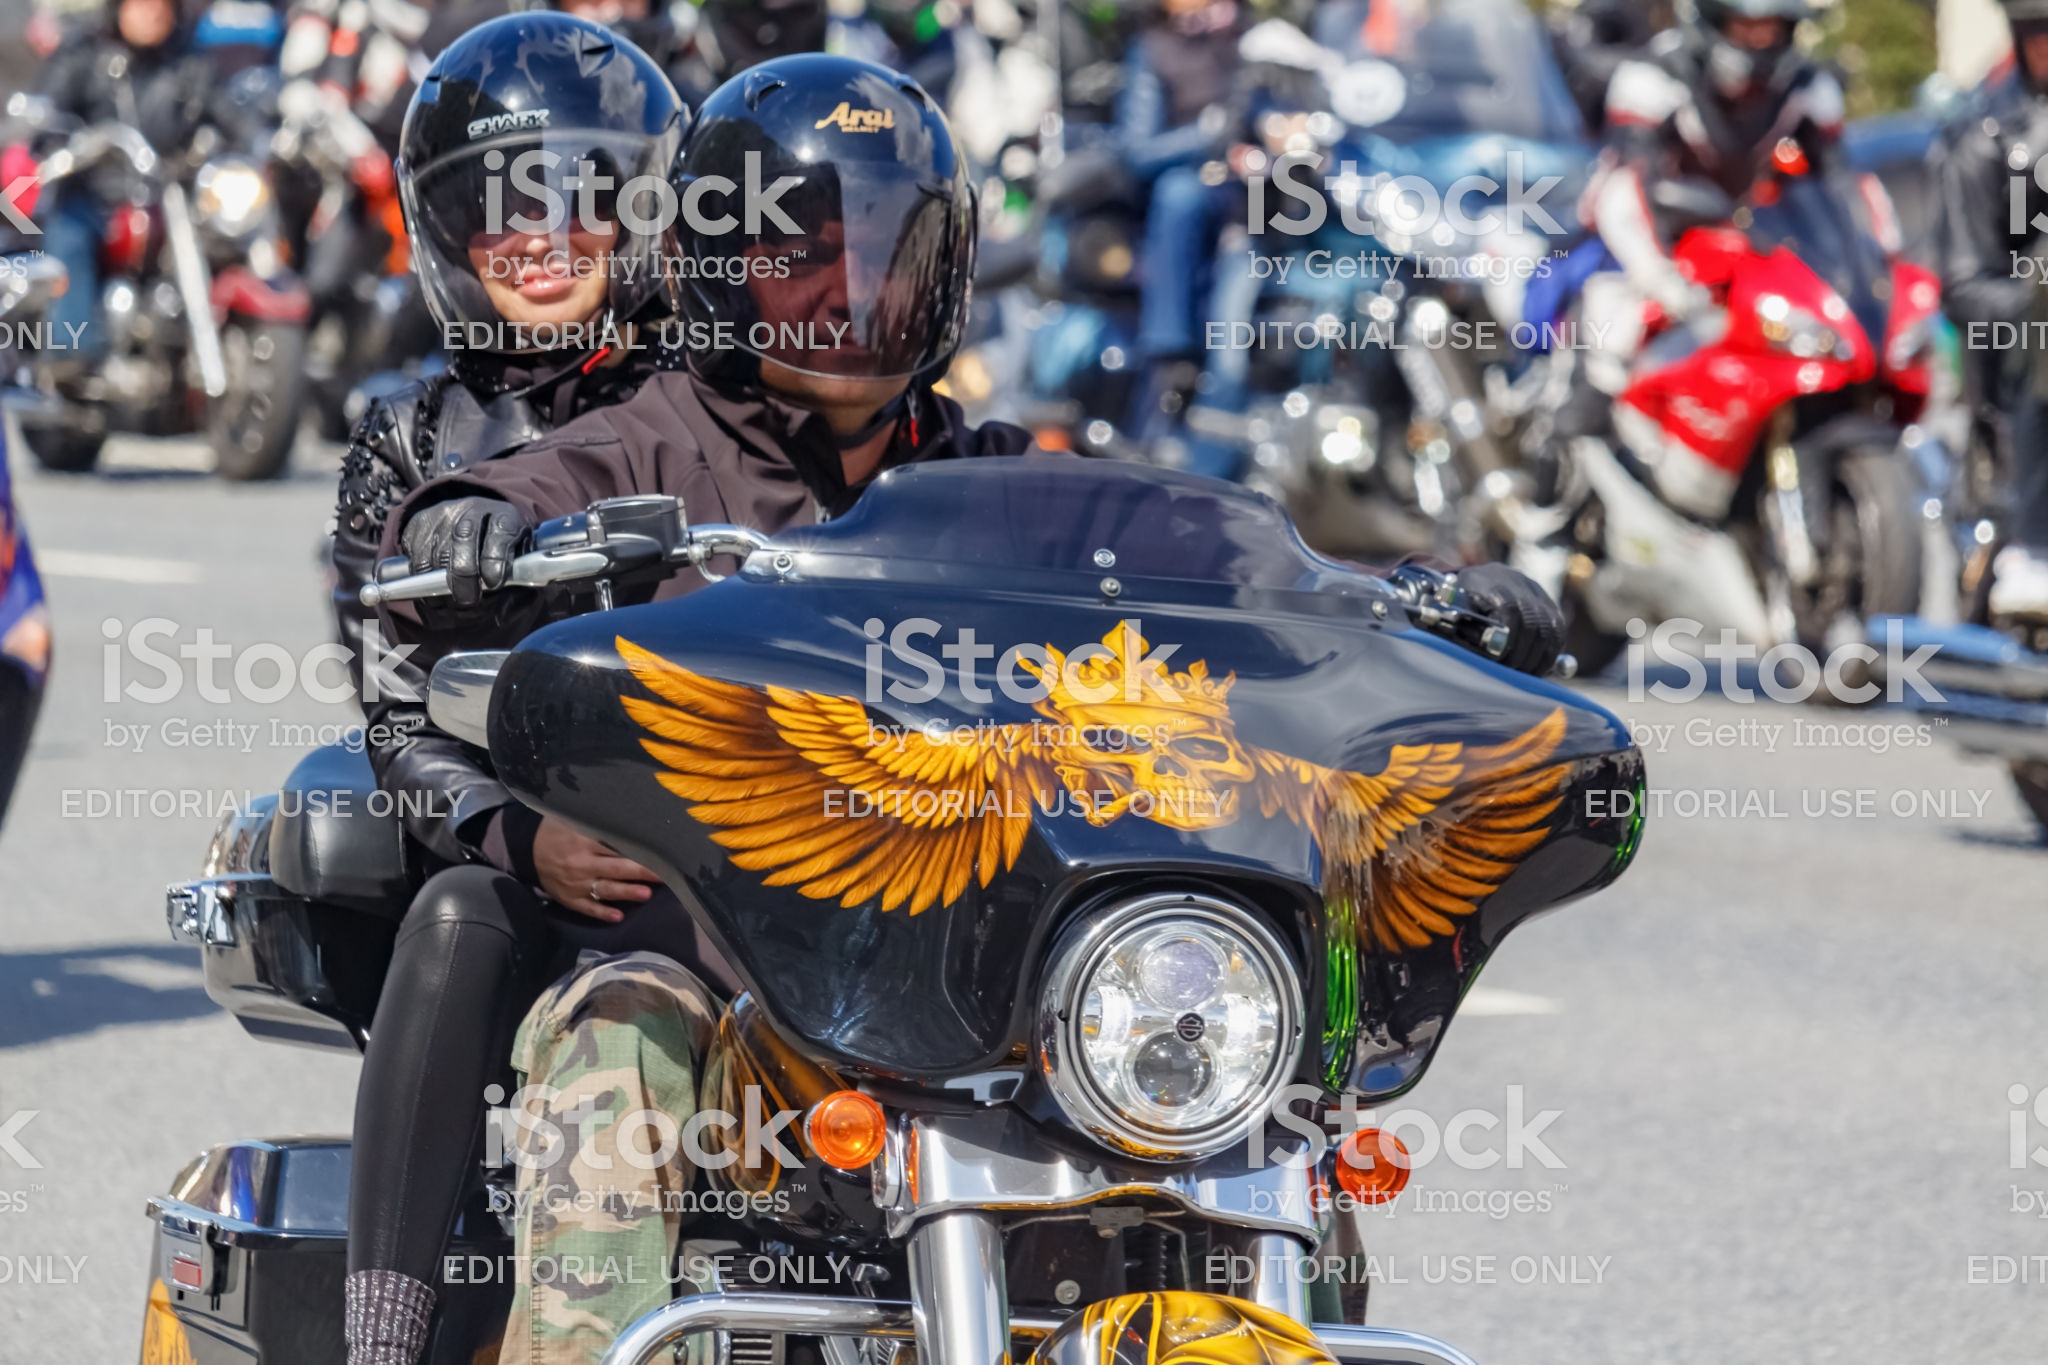helmet: (372, 23, 716, 315), (672, 85, 997, 369)
